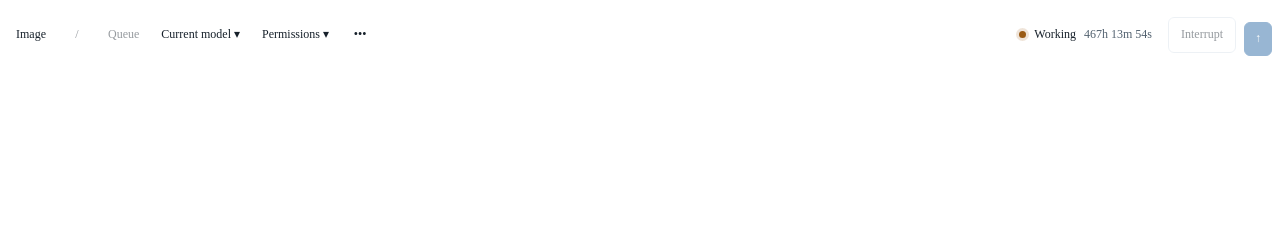
Test case: keeps confirmed settings visible and native mutations disabled without reporting disconnection during handoff
Click the button with test id "session-model-button" at (201, 35), box x1=153 y1=18 x2=248 y2=52
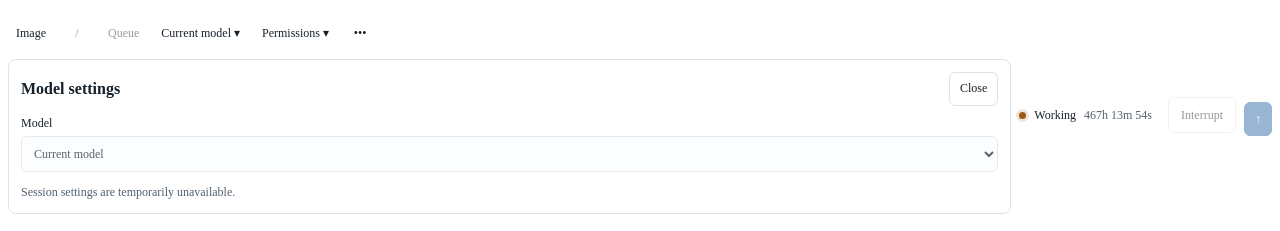
Expected: the button with test id "cancel-submit" is disabled, x1=1168 y1=97 x2=1236 y2=133
Result: the dropdown labelled "Model" shows "Current model" at x1=21 y1=136 x2=998 y2=172
Result: the dropdown labelled "Model" is disabled at x1=21 y1=136 x2=998 y2=172
